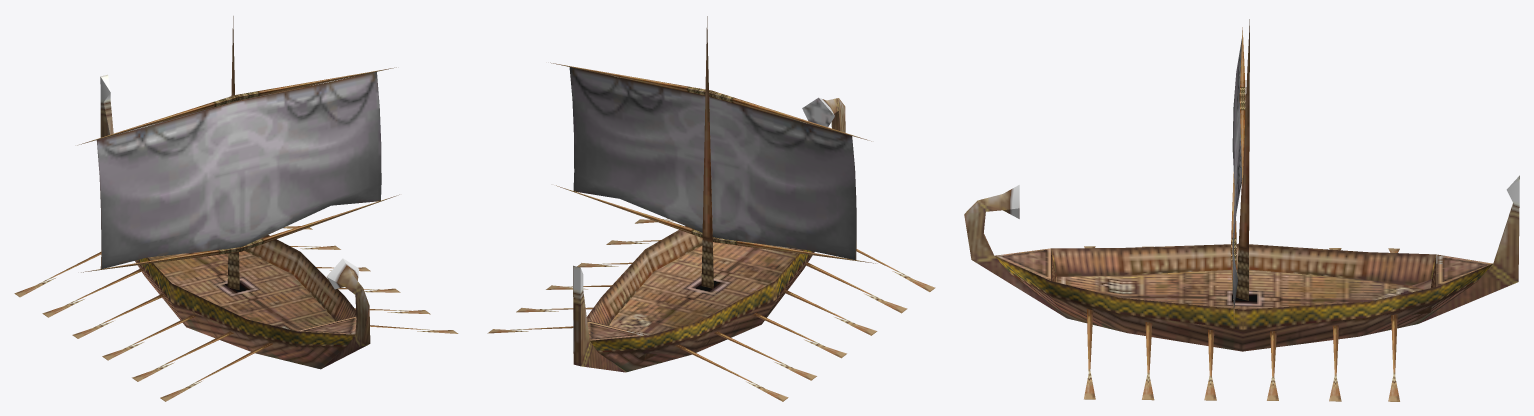
The model's file is kebenit_base.glb.
3 renders of one model, left to right at view 1: azimuth 30°, elevation 25°; view 2: azimuth 150°, elevation 25°; view 3: azimuth 270°, elevation 25°, orthographic. The views are drawn at different scales.
Visible parts, largest first — view 1: MeshRoot; view 2: MeshRoot; view 3: MeshRoot.
Part boxes in pixels (x1,y1,x2,y2): MeshRoot: (14, 16, 458, 401); MeshRoot: (487, 16, 935, 401); MeshRoot: (964, 19, 1519, 401).
Size of the model in its own units: 5.09 by 4.73 by 7.19.
Materials: 3 (3 with a texture image).
